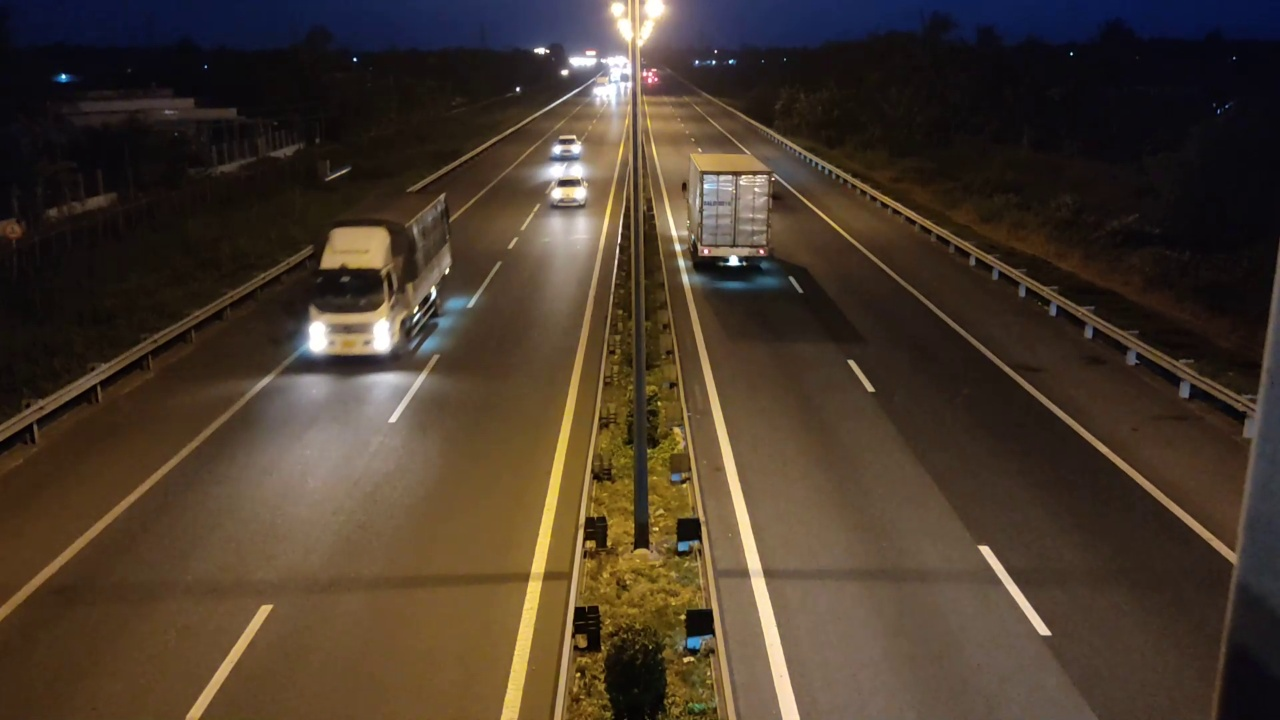car: (547, 173, 589, 208), (550, 135, 583, 162)
truck: (306, 187, 454, 363), (684, 153, 774, 272)
